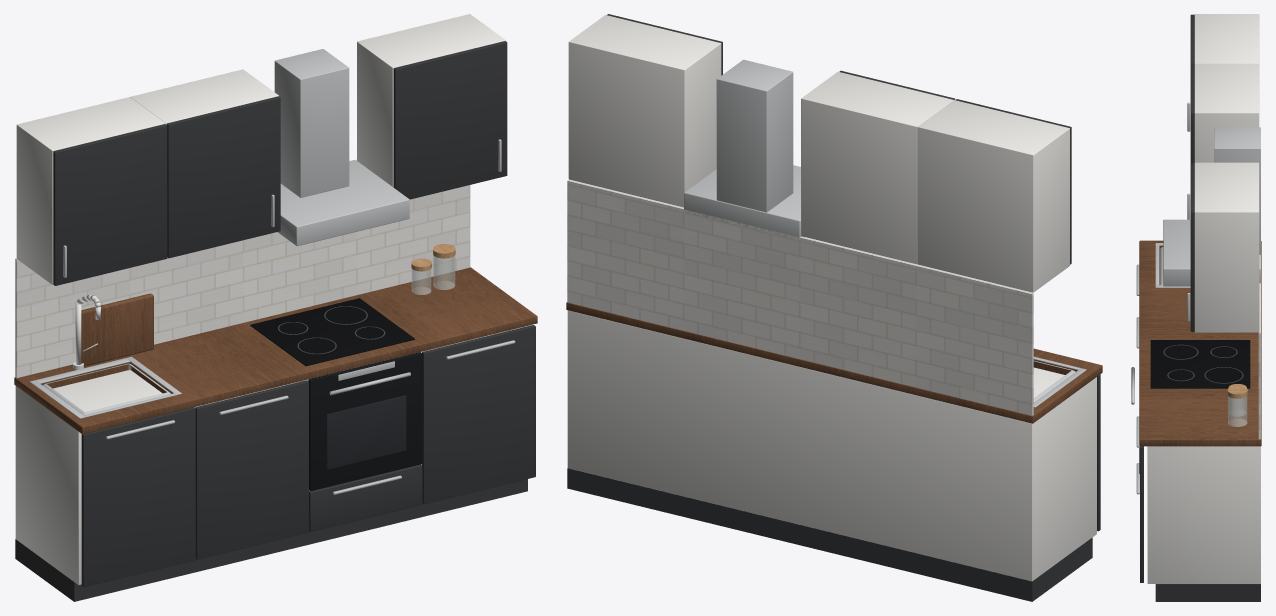
Rendered from kitchen-black.glb.
3 views of the same model, side by side, from view 1: azimuth 30°, elevation 25°; view 2: azimuth 150°, elevation 25°; view 3: azimuth 270°, elevation 25° (orthographic). The views are drawn at different scales.
Visible parts, largest first — view 1: splash, worktop, door, front, front.001, upper-door, upper-door.001, upper-door.002, carcass, chimney, upper, upper.002 (+10 smaller); view 2: carcass, splash, upper, upper.002, upper.001, plinth, chimney, worktop, hood; view 3: carcass, worktop, upper.002, upper.001, hob, upper, hood, plinth, chimney, upper-door.002, jar1, front.001 (+10 smaller).
Part boxes in pixels (left/top/right/bottom): splash: left=15, top=185, right=470, bottom=377; worktop: left=14, top=267, right=537, bottom=434; door: left=81, top=407, right=195, bottom=587; front: left=195, top=380, right=308, bottom=559; front.001: left=422, top=325, right=535, bottom=504; upper-door: left=53, top=124, right=167, bottom=285; upper-door.001: left=166, top=96, right=280, bottom=258; upper-door.002: left=393, top=41, right=507, bottom=199; carcass: left=15, top=325, right=531, bottom=584; chimney: left=274, top=49, right=349, bottom=197; upper: left=16, top=97, right=165, bottom=284; upper.002: left=357, top=14, right=505, bottom=187; carcass: left=567, top=310, right=1096, bottom=581; splash: left=567, top=180, right=1033, bottom=415; upper: left=917, top=100, right=1069, bottom=292; upper.002: left=568, top=15, right=721, bottom=207; upper.001: left=801, top=71, right=953, bottom=264; plinth: left=567, top=468, right=1092, bottom=601; chimney: left=716, top=59, right=793, bottom=212; worktop: left=566, top=302, right=1102, bottom=423; hood: left=684, top=165, right=804, bottom=238; carcass: left=1147, top=446, right=1260, bottom=583; worktop: left=1139, top=240, right=1261, bottom=446; upper.002: left=1194, top=162, right=1259, bottom=332; upper.001: left=1194, top=63, right=1259, bottom=162; hob: left=1150, top=340, right=1250, bottom=388; upper: left=1194, top=14, right=1259, bottom=63; hood: left=1163, top=219, right=1260, bottom=286; plinth: left=1155, top=584, right=1260, bottom=601; chimney: left=1214, top=127, right=1260, bottom=254; upper-door.002: left=1190, top=163, right=1194, bottom=331; jar1: left=1228, top=396, right=1247, bottom=426; front.001: left=1140, top=446, right=1143, bottom=582.
Bounding box in the file's own units: 2.41 × 2.2 × 0.6665.
13 materials, 3 textured.
